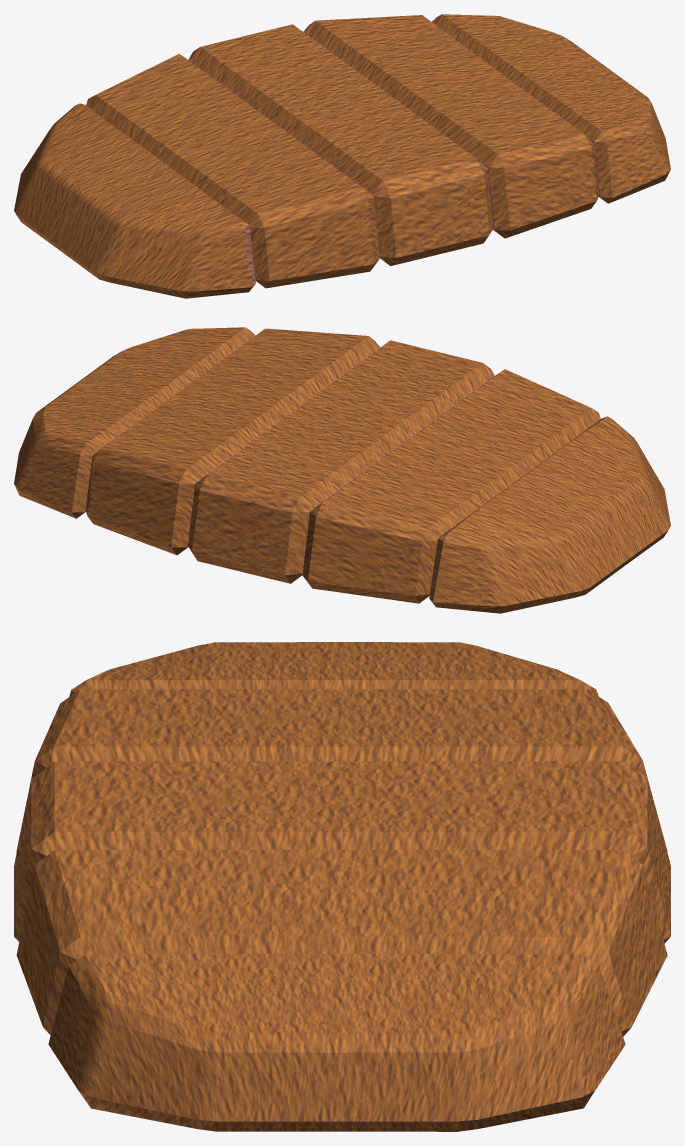
The model's file is katu2.fbx.
3 renders of one model, top to bottom at view 1: azimuth 30°, elevation 25°; view 2: azimuth 150°, elevation 25°; view 3: azimuth 270°, elevation 25°, orthographic. The views are drawn at different scales.
Visible parts, largest first — view 1: pCube3, pCube4, pCube2, pCube5, pCube6; view 2: pCube3, pCube4, pCube2, pCube5, pCube6; view 3: pCube6, pCube5, pCube4, pCube3, pCube2.
Boxes of the visible parts, left/top/right/bottom form: pCube3: left=86, top=54, right=379, bottom=288; pCube4: left=188, top=24, right=493, bottom=265; pCube2: left=14, top=103, right=255, bottom=298; pCube5: left=303, top=15, right=599, bottom=238; pCube6: left=432, top=14, right=670, bottom=203; pCube3: left=302, top=369, right=600, bottom=603; pCube4: left=188, top=340, right=494, bottom=583; pCube2: left=429, top=416, right=670, bottom=613; pCube5: left=85, top=328, right=380, bottom=555; pCube6: left=14, top=327, right=255, bottom=518; pCube6: left=48, top=954, right=625, bottom=1131; pCube5: left=16, top=850, right=667, bottom=1036; pCube4: left=14, top=761, right=670, bottom=943; pCube3: left=16, top=689, right=667, bottom=851; pCube2: left=69, top=642, right=598, bottom=696.
Bounding box in the file's own units: 0.9779 × 0.1315 × 0.6301.
Materials: 1 (1 with a texture image).
